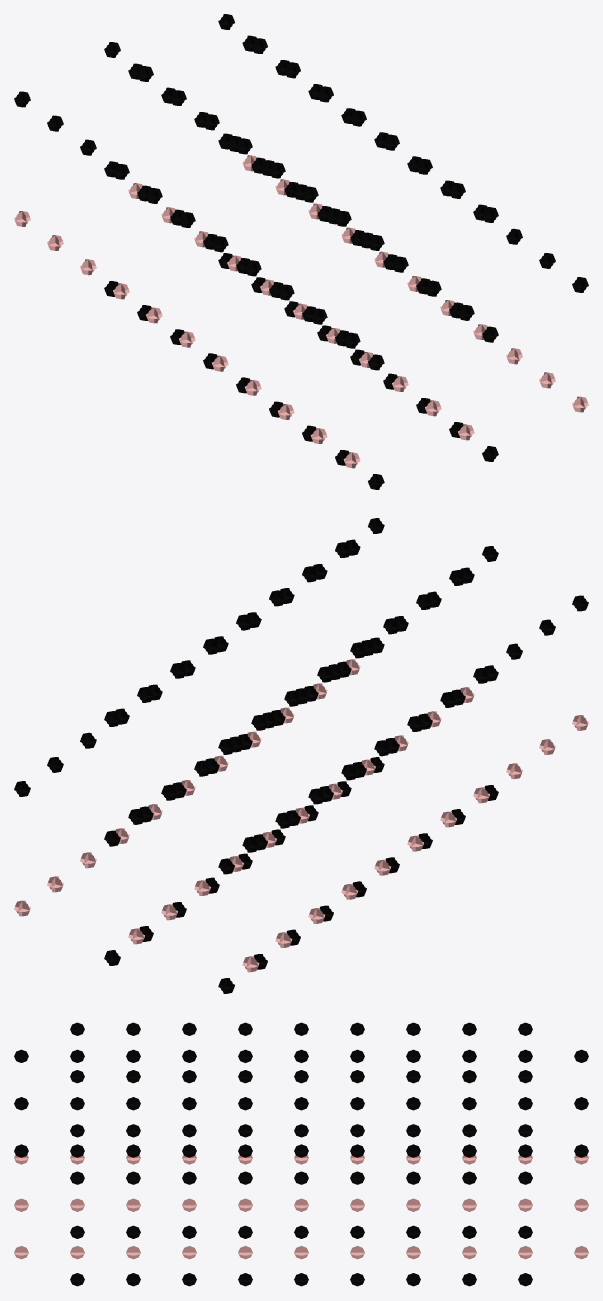
File: match_graph_surface_code.gltf
The picture shows the model from 3 angles, top to bottom: view 1: azimuth 30°, elevation 25°; view 2: azimuth 150°, elevation 25°; view 3: azimuth 270°, elevation 25°; orthographic projection. The views are drawn at different scales.
Bounding box in the file's own units: 12.8 × 12.8 × 30.8.
